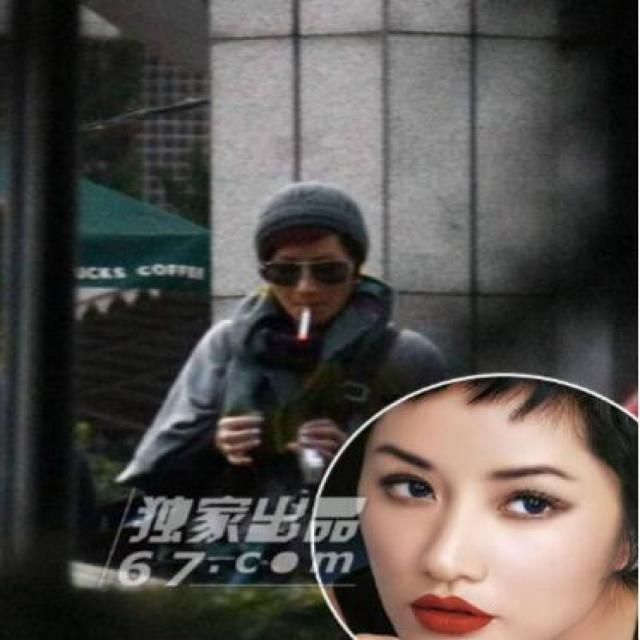cigarette: (295, 308, 319, 343)
